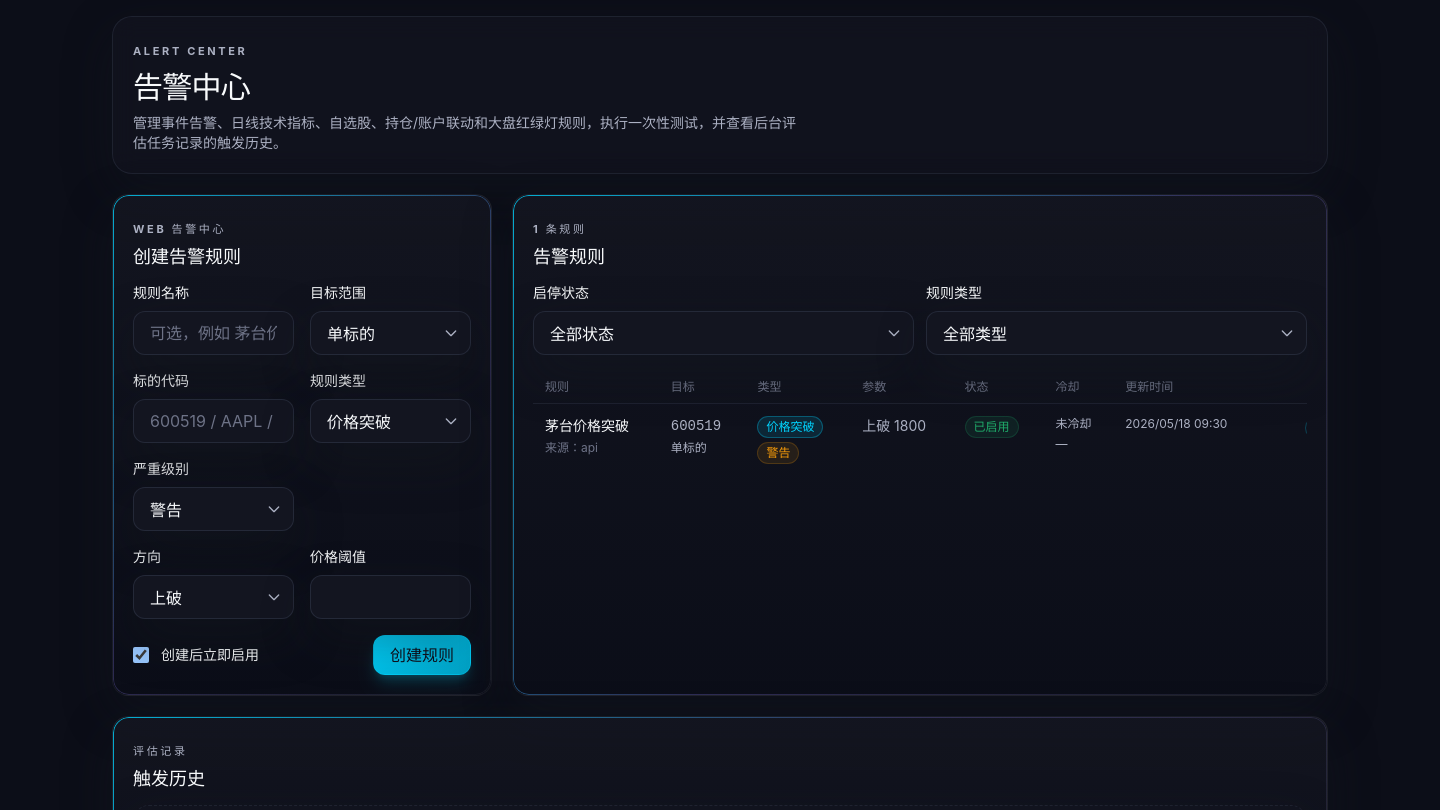
Test: AlertsPage › keeps create form values when create API fails
Expected: the text "茅台价格突破" is shown, [545, 417, 629, 434]
In the field labelled "标的代码": (214, 421) [133, 399, 294, 443], type "aapl"
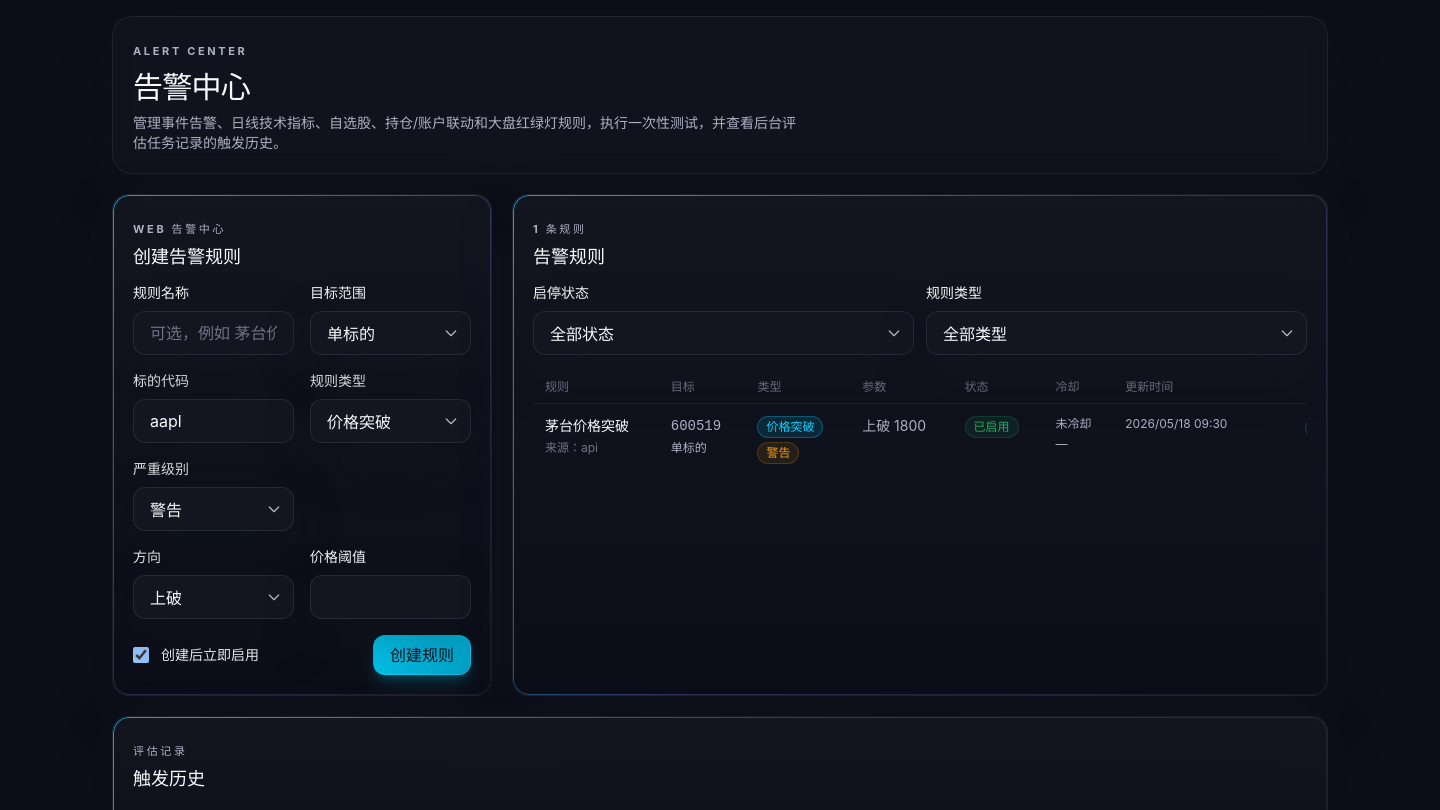
In the number field labelled "价格阈值": (390, 597) [310, 575, 471, 619], type "200"
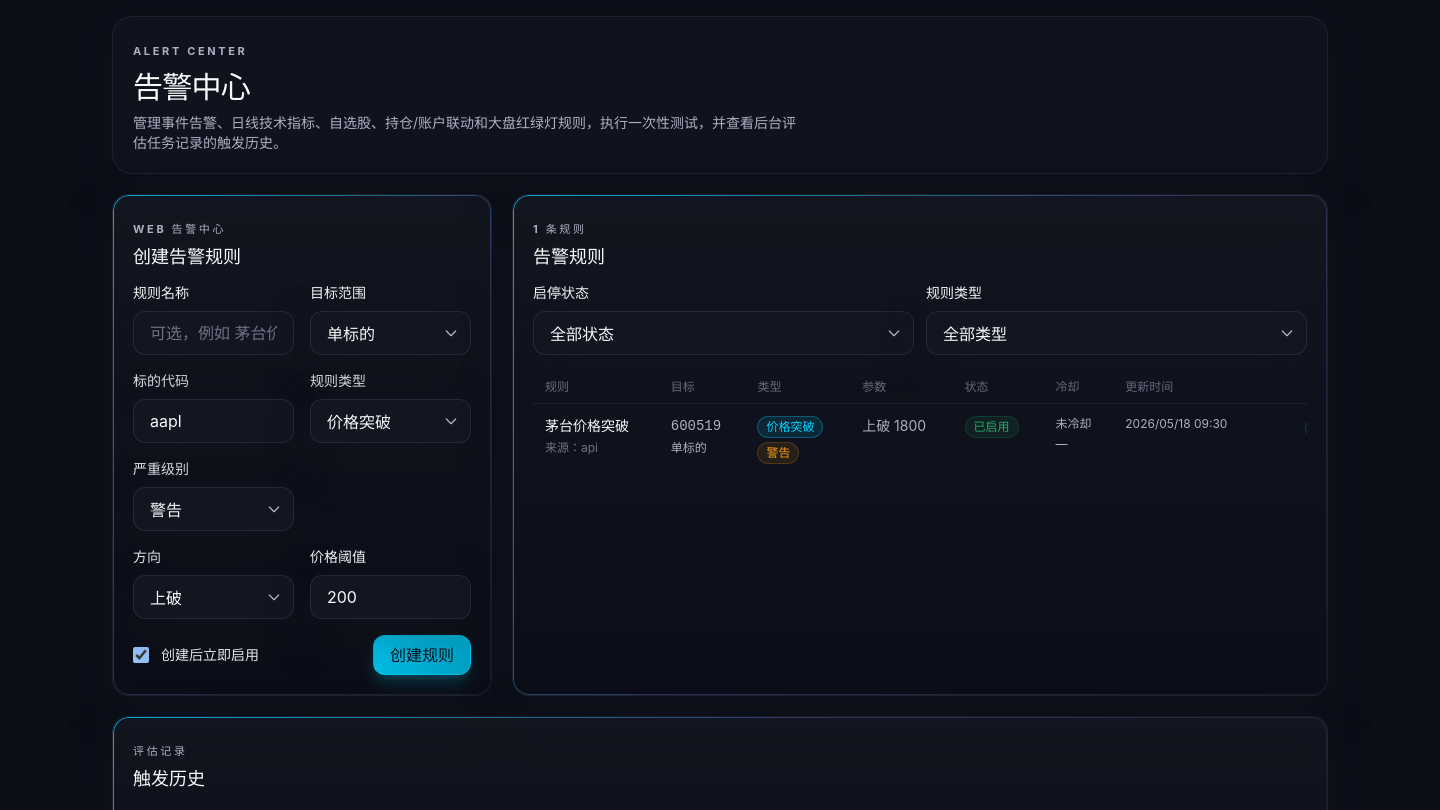
Click the button "创建规则": click(422, 655) [373, 635, 471, 675]
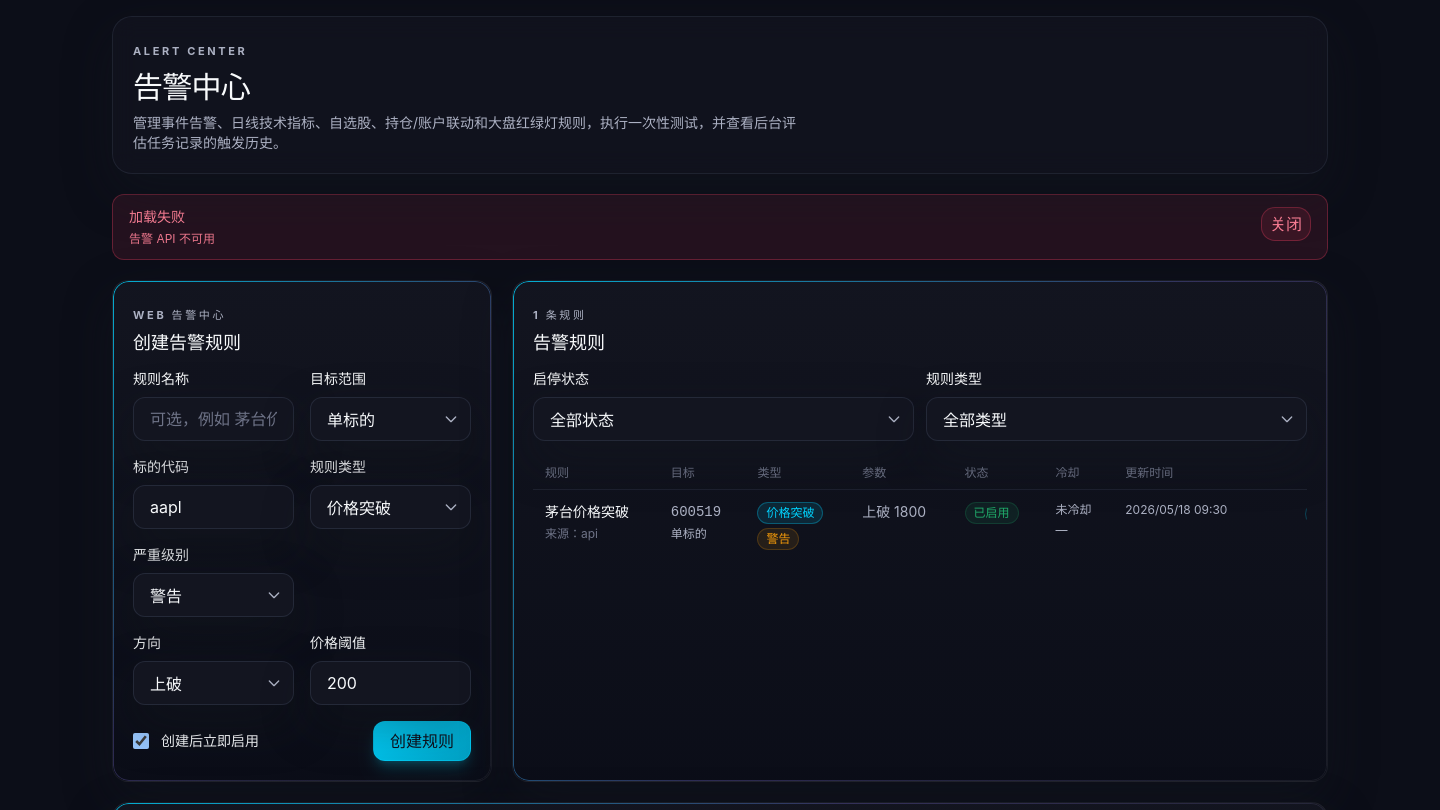
Now the text "加载失败" is shown, box [129, 208, 185, 225]
